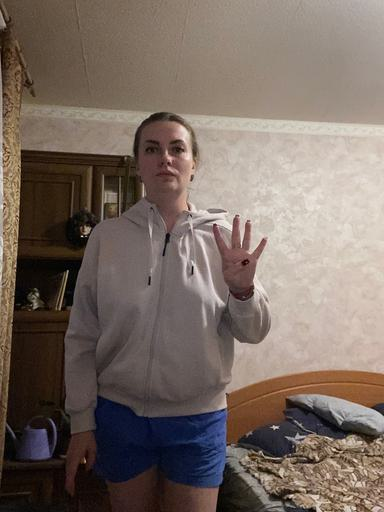four: (211, 214, 269, 295)
